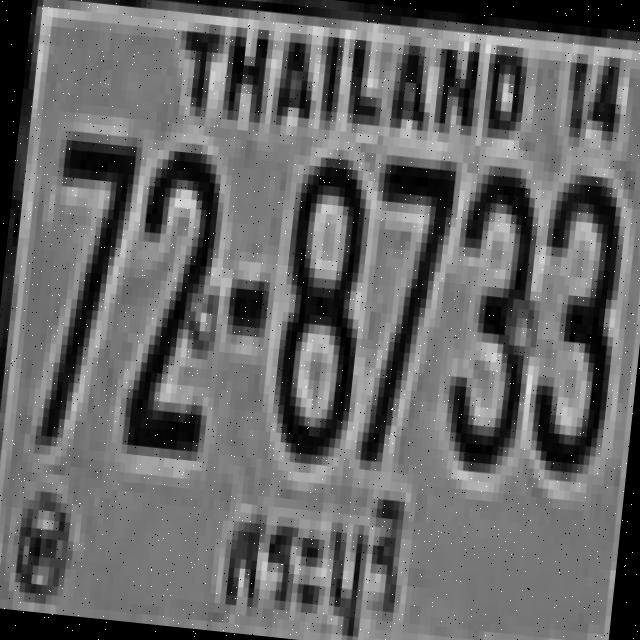2: (119, 139, 227, 451)
3: (436, 154, 544, 466), (523, 167, 624, 470)
7: (349, 144, 458, 467), (30, 120, 139, 442), (33, 120, 138, 414)
8: (262, 145, 370, 457)
SaraBuri: (206, 478, 430, 640)
